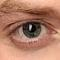eye: (22, 24, 41, 38)
